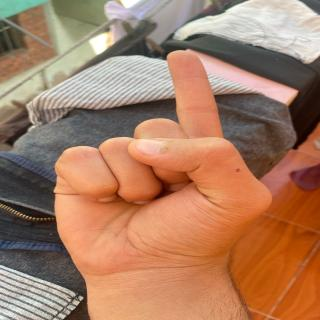BAA: (41, 40, 275, 278)
